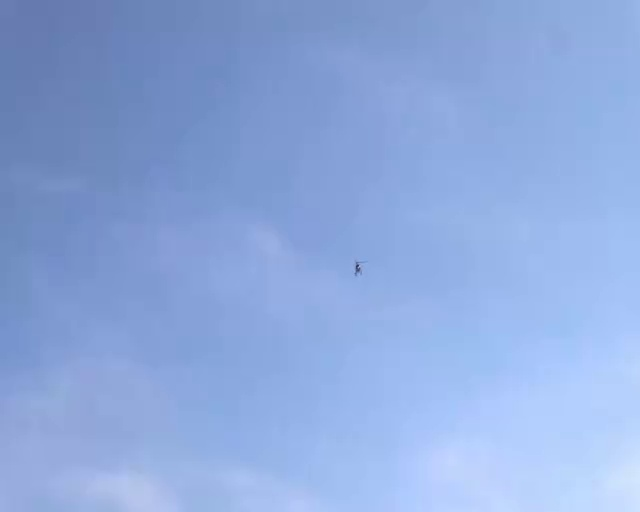HELICOPTER: (354, 259, 367, 275)
